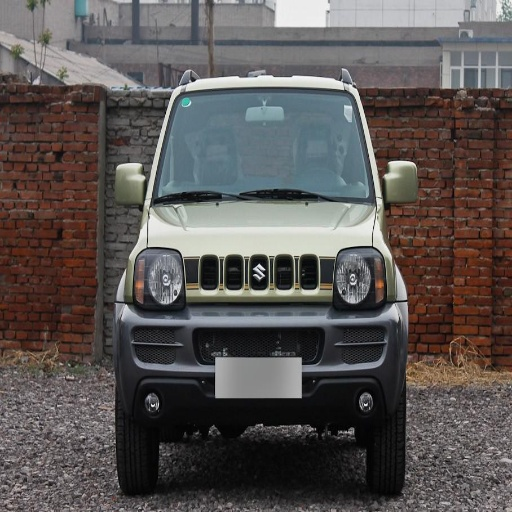front_bumper: (119, 253, 405, 418)
front_right_light: (134, 250, 182, 304)
hood: (149, 201, 374, 257)
left_mirror: (384, 161, 419, 206)
